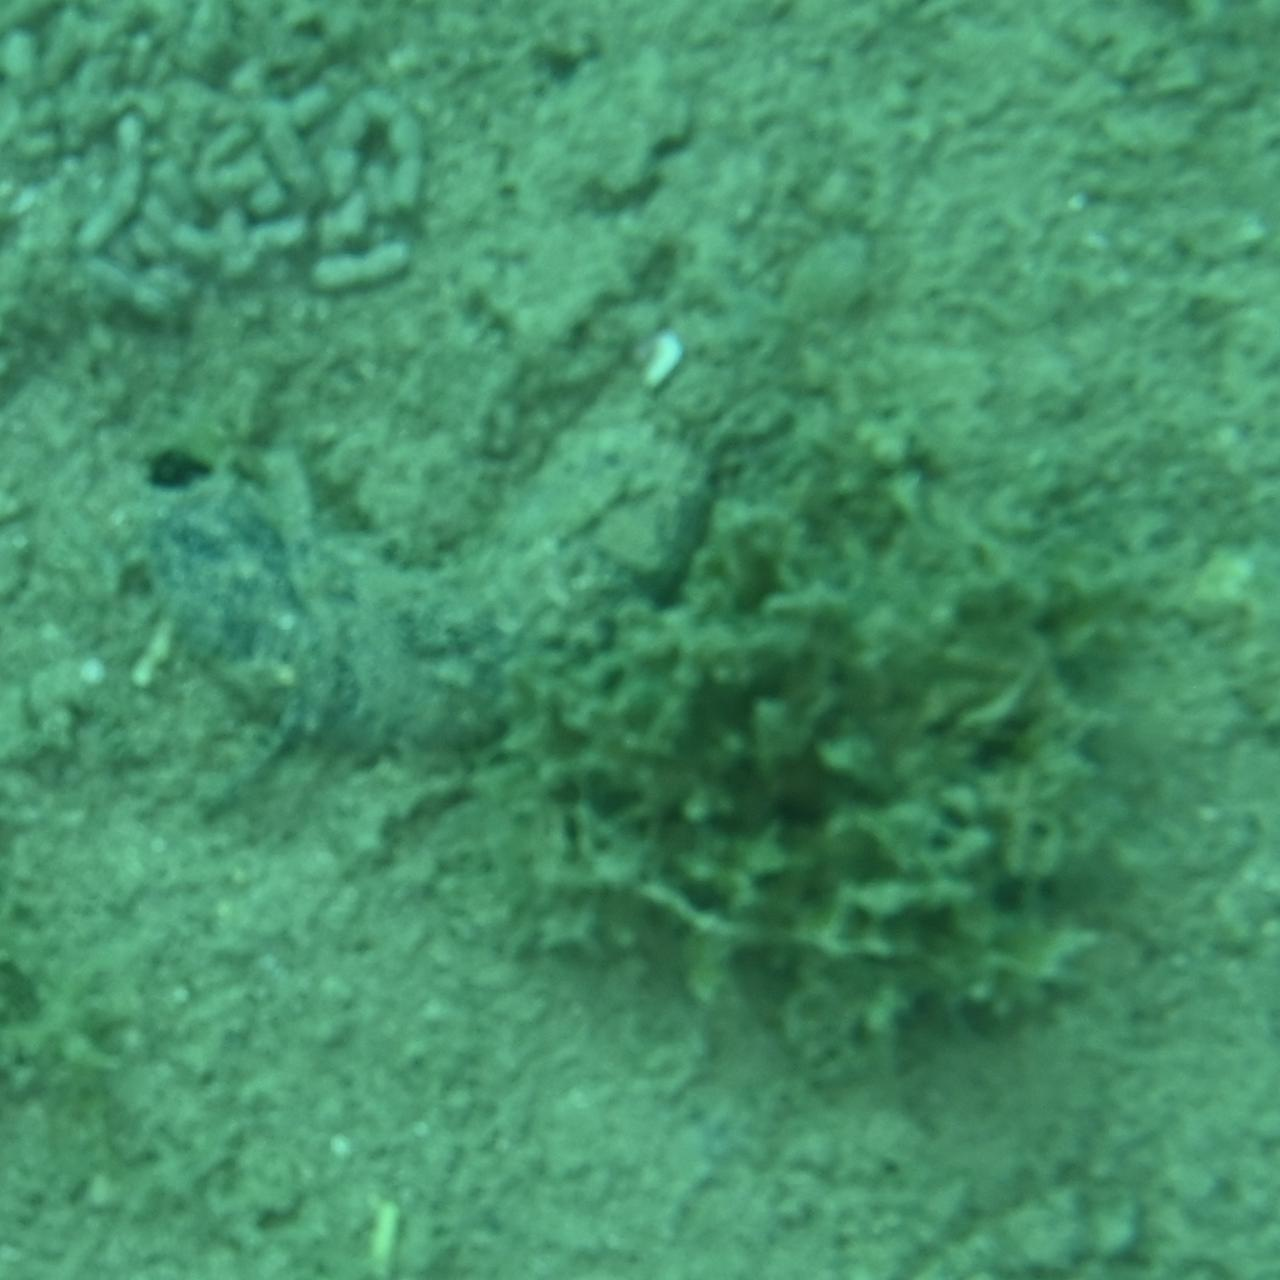Holothuria tubulosa: (104, 331, 774, 761)
Phaeophyceae -cfr Cystoseira-: (527, 399, 1155, 1071)
